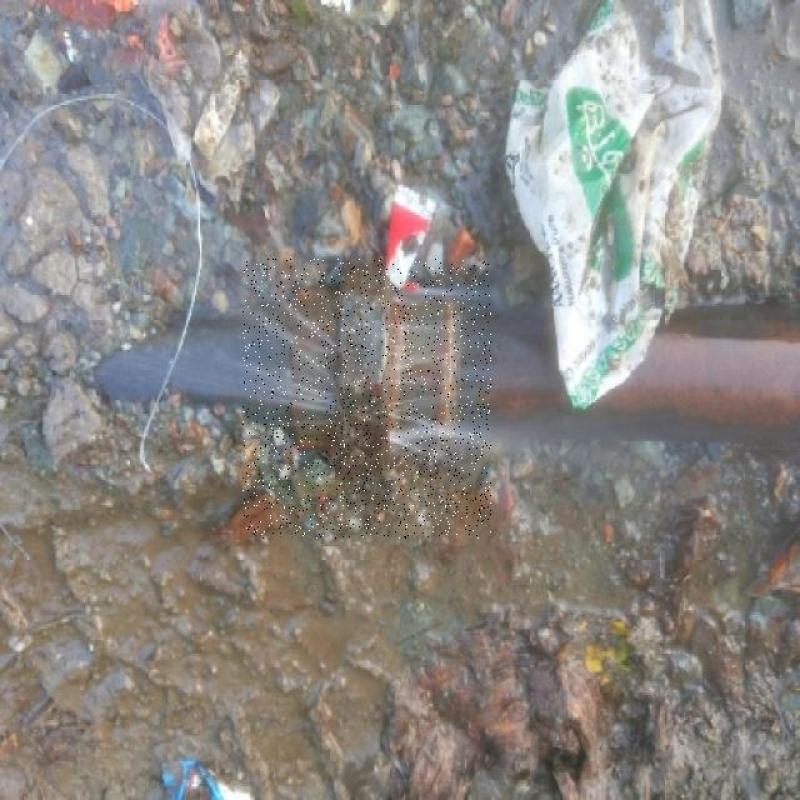Fracture: (219, 208, 456, 430)
